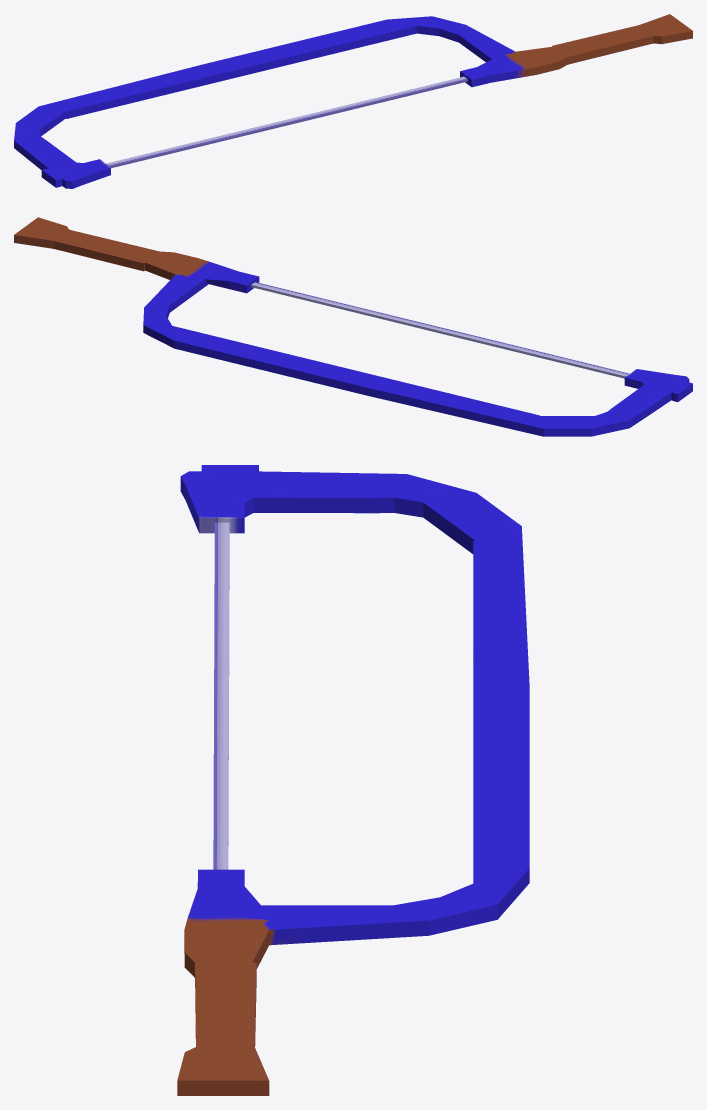
Rendered from Feile + saege 7.fbx.
3 renders of one model, top to bottom at view 1: azimuth 30°, elevation 25°; view 2: azimuth 150°, elevation 25°; view 3: azimuth 270°, elevation 25°, orthographic. The views are drawn at different scales.
Visible parts, largest first — view 1: Cube; view 2: Cube; view 3: Cube.
Part boxes in pixels (x1=…): Cube: x1=14, y1=14, x2=692, y2=188; Cube: x1=14, y1=217, x2=692, y2=436; Cube: x1=177, y1=465, x2=529, y2=1095.
Size of the model in its own units: 5524 by 63.84 by 1337.
